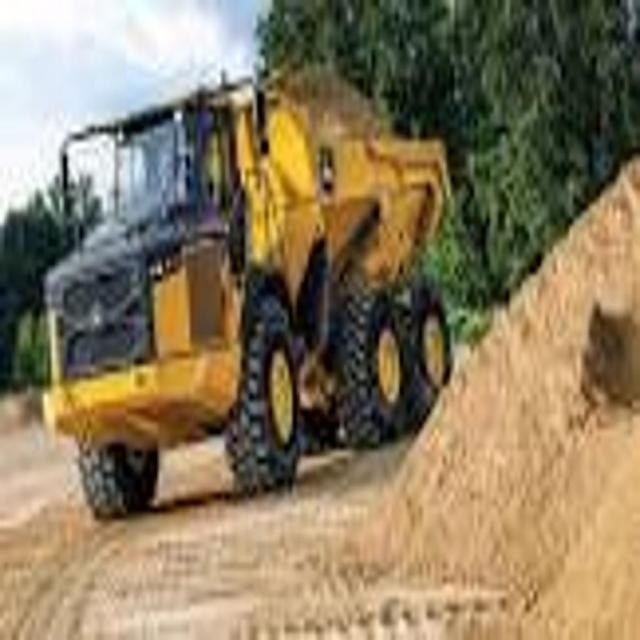dump_truck: (48, 67, 456, 505)
